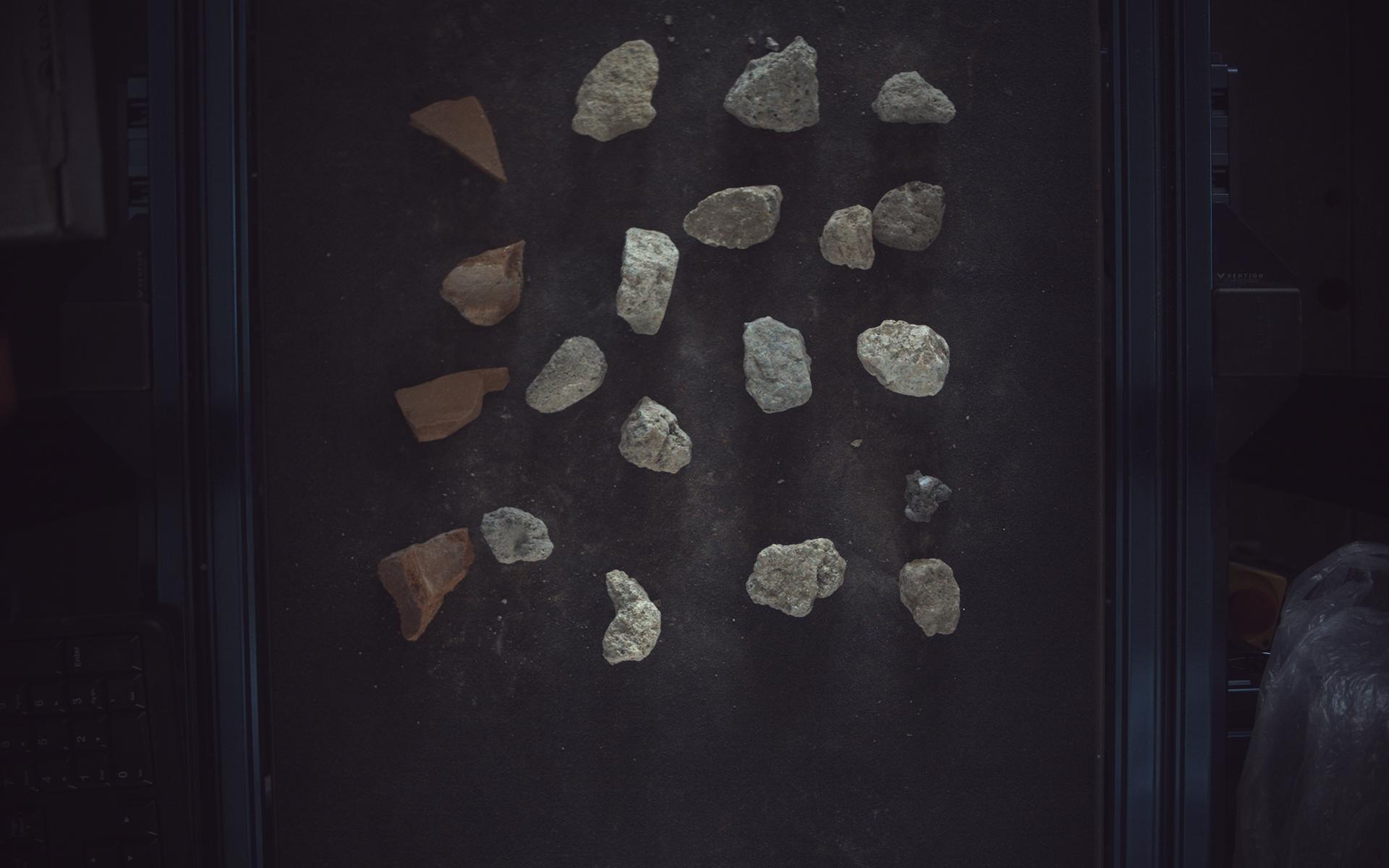brick: (378, 529, 473, 642), (395, 367, 510, 442), (409, 95, 506, 180), (441, 239, 524, 326)
concrete: (725, 35, 821, 131), (572, 38, 660, 140), (747, 540, 848, 618), (859, 320, 951, 397), (617, 227, 679, 335), (745, 316, 813, 413), (684, 184, 784, 248), (526, 336, 608, 413), (620, 396, 692, 474), (603, 570, 662, 665), (874, 180, 947, 250), (901, 559, 962, 637), (873, 71, 957, 123), (481, 507, 554, 565), (820, 204, 877, 269), (906, 470, 954, 523)
